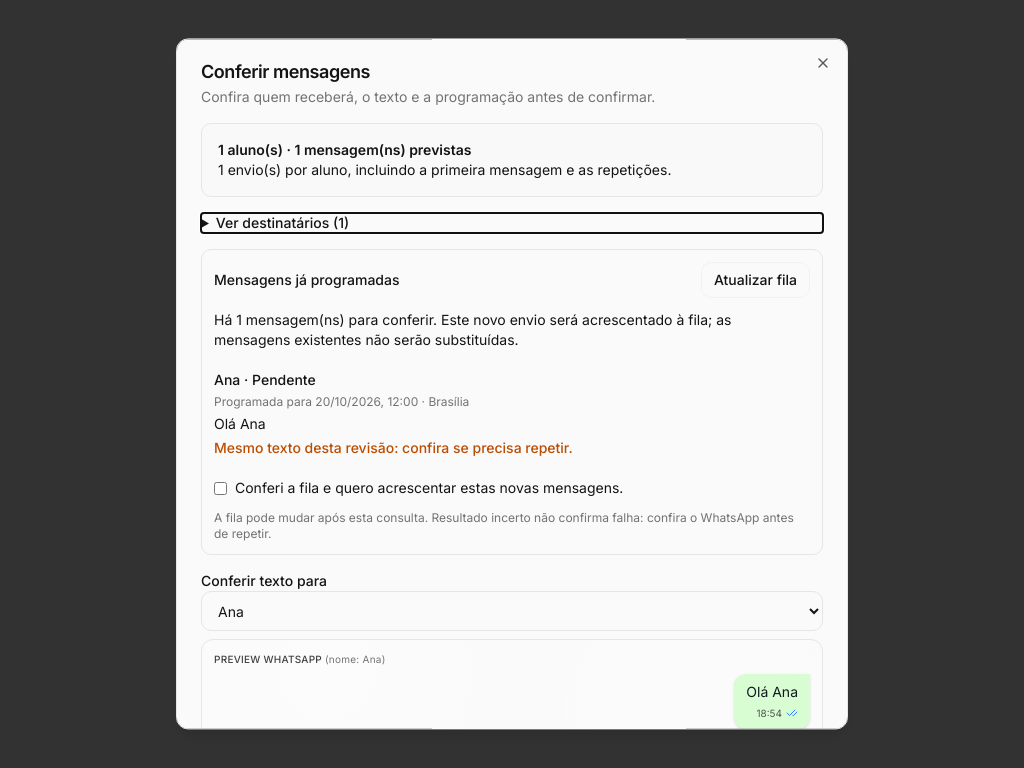
Test case: requires a fresh acknowledgement if refreshing detects a changed queue
Click the checkbox labelled "Conferi a fila e quero acrescentar estas novas mensagens." at (220, 489), box [214, 482, 227, 495]
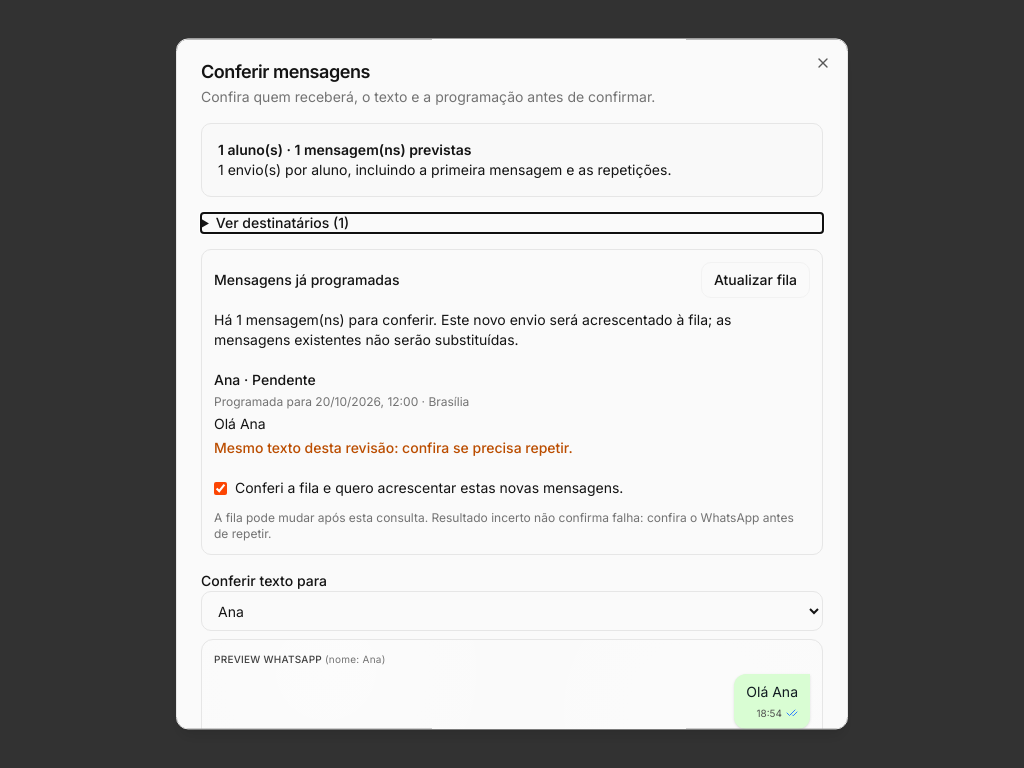
Click the button "Atualizar fila" at (755, 280), box [701, 262, 810, 298]
(page scrolled)
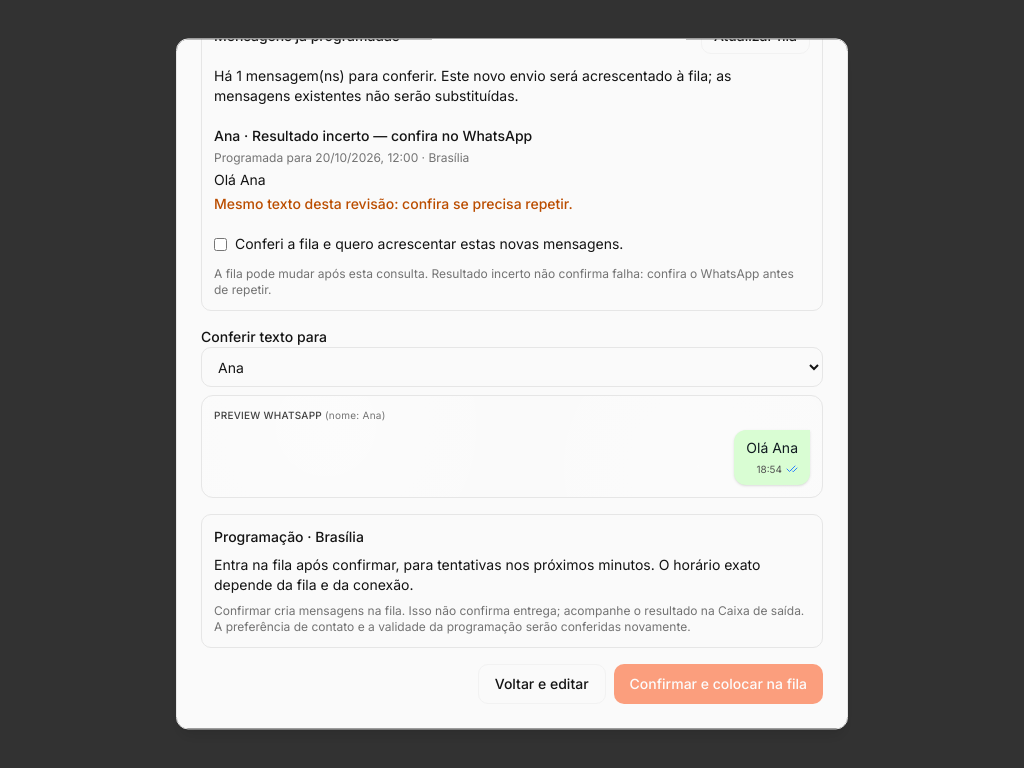
Expected: the checkbox labelled "Conferi a fila e quero acrescentar estas novas mensagens." is not checked, [214, 238, 227, 251]
Expected: the text "Ana · Resultado incerto — confira no WhatsApp" is shown, [214, 127, 532, 144]
Expected: the button "Confirmar e colocar na fila" is disabled, [614, 664, 823, 704]
